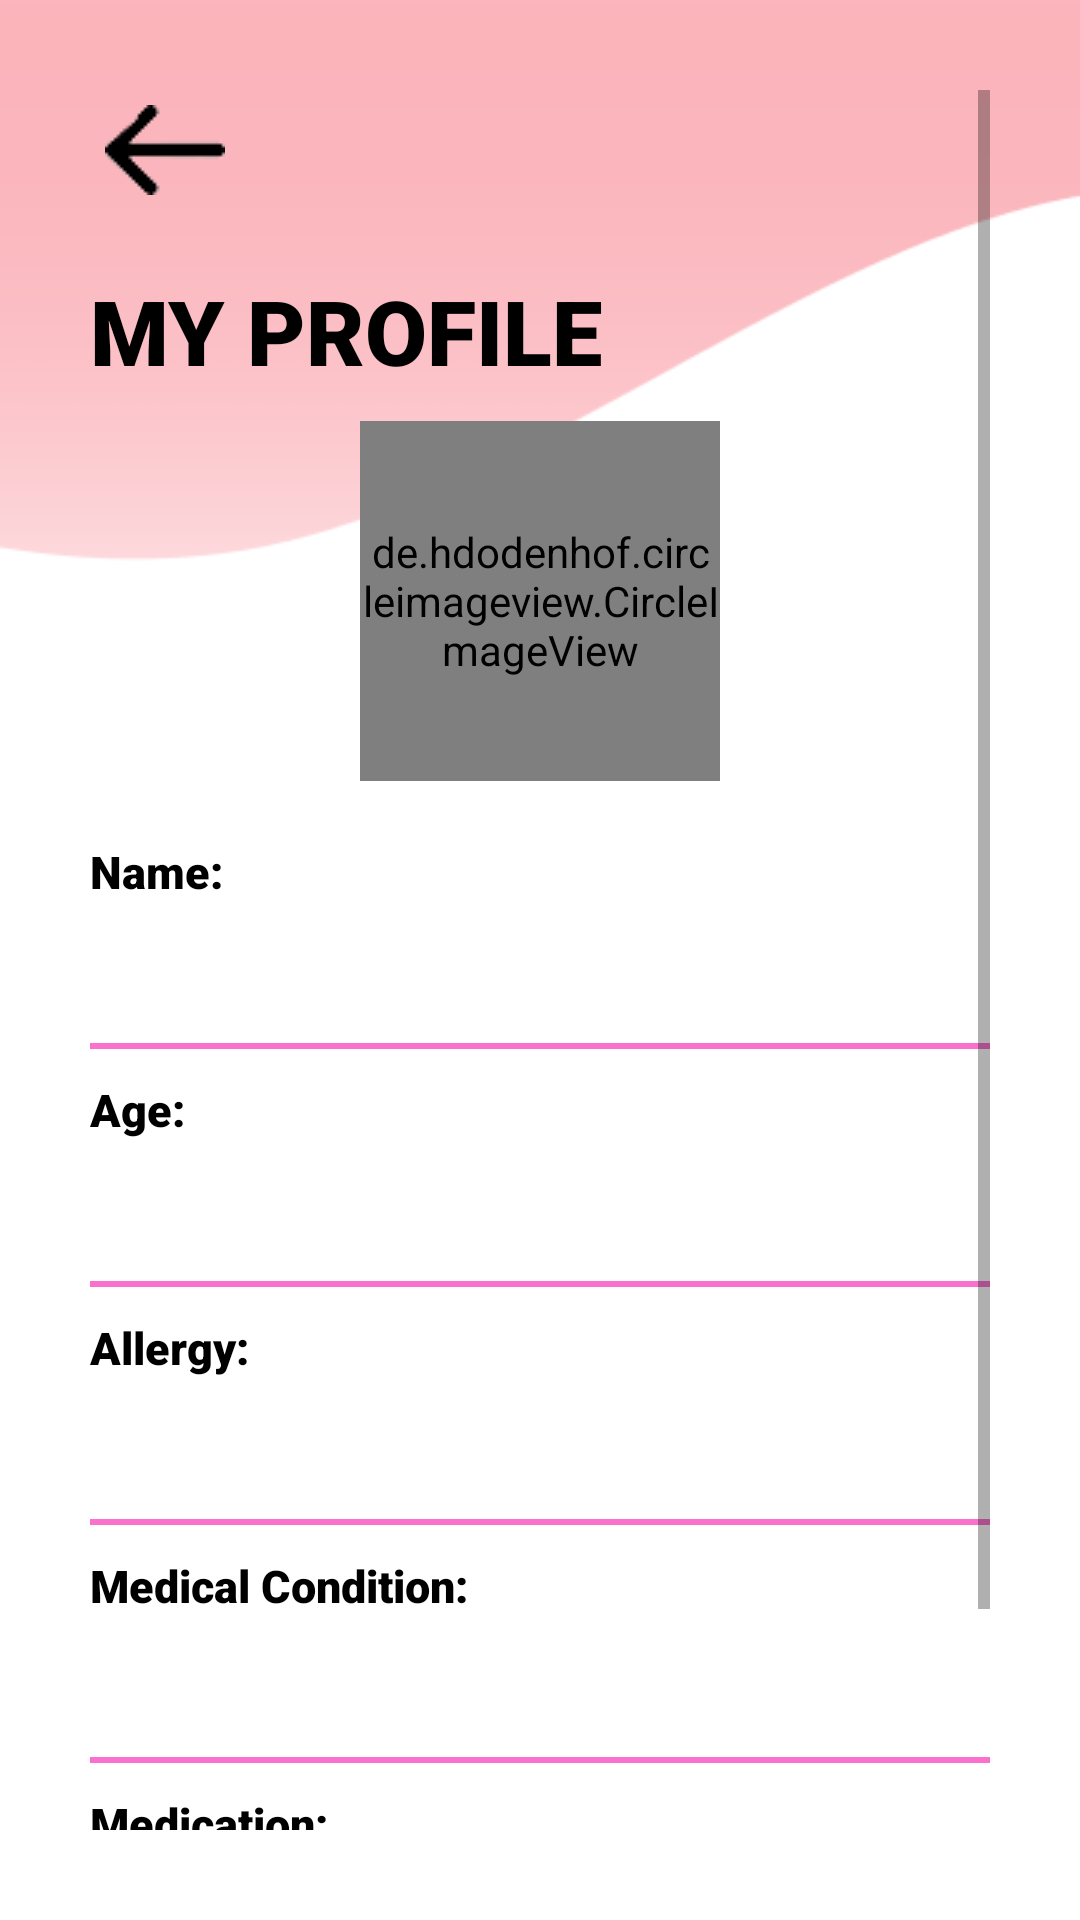

Icon bounding boxes for this 1080 x 1920 phone screenshot, format (x1, y1, x2, y2):
back: (105, 105, 225, 195)
